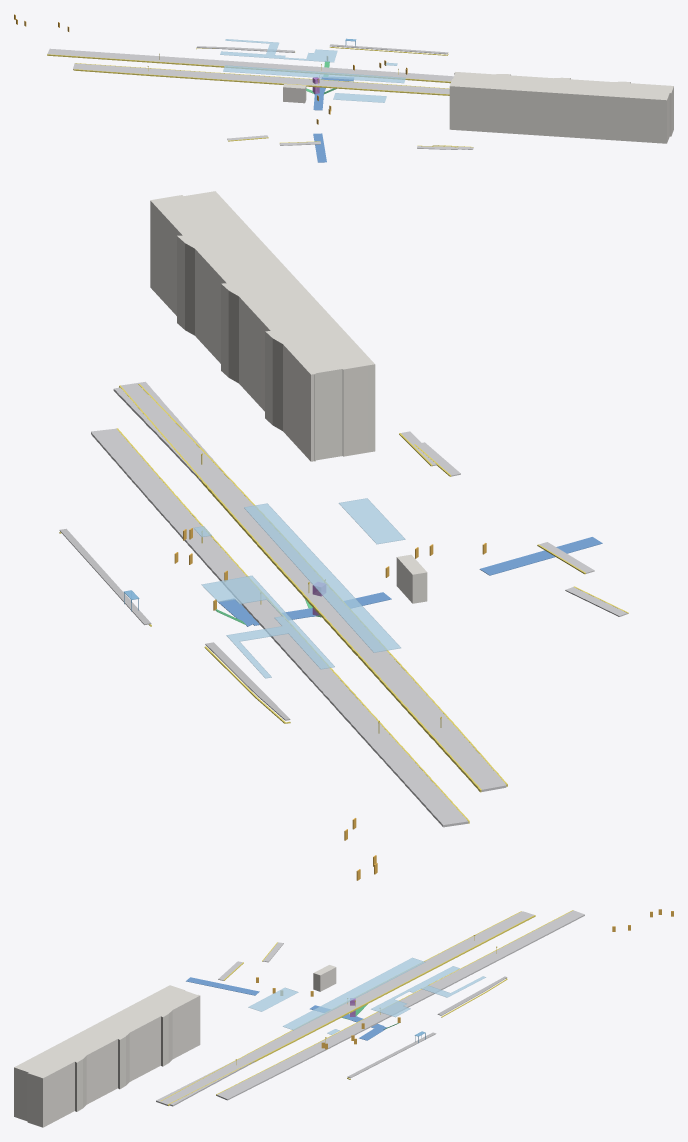
Rendered from 8507003-guemligen.glb.
The picture shows the model from 3 angles, top to bottom: view 1: azimuth 30°, elevation 25°; view 2: azimuth 150°, elevation 25°; view 3: azimuth 270°, elevation 25°; orthographic projection. The views are drawn at different scales.
Parts seen in each view (by area): view 1: building_part@x, platform_body@0, roof@0, boarding_edge@0, passage@-1, platform_surface@0; view 2: building_part@x, platform_body@0, roof@0, boarding_edge@0, passage@-1, platform_surface@0; view 3: building_part@x, platform_body@0, roof@0, boarding_edge@0, passage@-1, platform_surface@0.
Part boxes in pixels (bbox=[...]): building_part@x: bbox=[283, 72, 673, 143]; platform_body@0: bbox=[47, 48, 473, 149]; roof@0: bbox=[220, 39, 405, 102]; boarding_edge@0: bbox=[47, 47, 473, 147]; passage@-1: bbox=[313, 77, 353, 162]; platform_surface@0: bbox=[196, 44, 448, 54]; building_part@x: bbox=[150, 191, 427, 603]; platform_body@0: bbox=[91, 381, 627, 827]; roof@0: bbox=[194, 498, 405, 678]; boarding_edge@0: bbox=[59, 384, 628, 823]; passage@-1: bbox=[218, 537, 602, 626]; platform_surface@0: bbox=[59, 528, 290, 720]; building_part@x: bbox=[14, 965, 336, 1127]; platform_body@0: bbox=[156, 910, 584, 1106]; roof@0: bbox=[248, 957, 485, 1034]; boarding_edge@0: bbox=[160, 910, 573, 1105]; passage@-1: bbox=[186, 977, 387, 1040]; platform_surface@0: bbox=[347, 976, 507, 1078].
Size of the model in its own units: 198 by 25.62 by 254.
